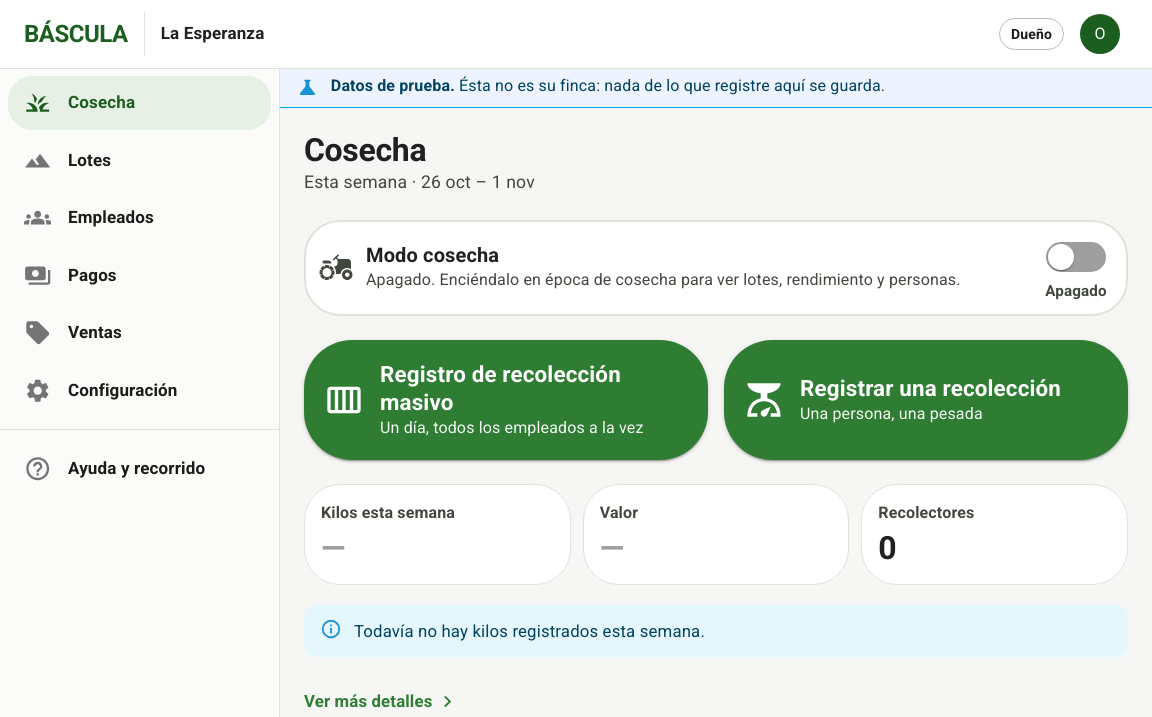
Test: «Modo cosecha» on the home screen › turned on, shows the harvest week: lotes, people and who has nothing today
Click the switch labelled "Modo cosecha" at {"x": 716, "y": 268}, box 304,220 -> 1128,316
(page scrolled)
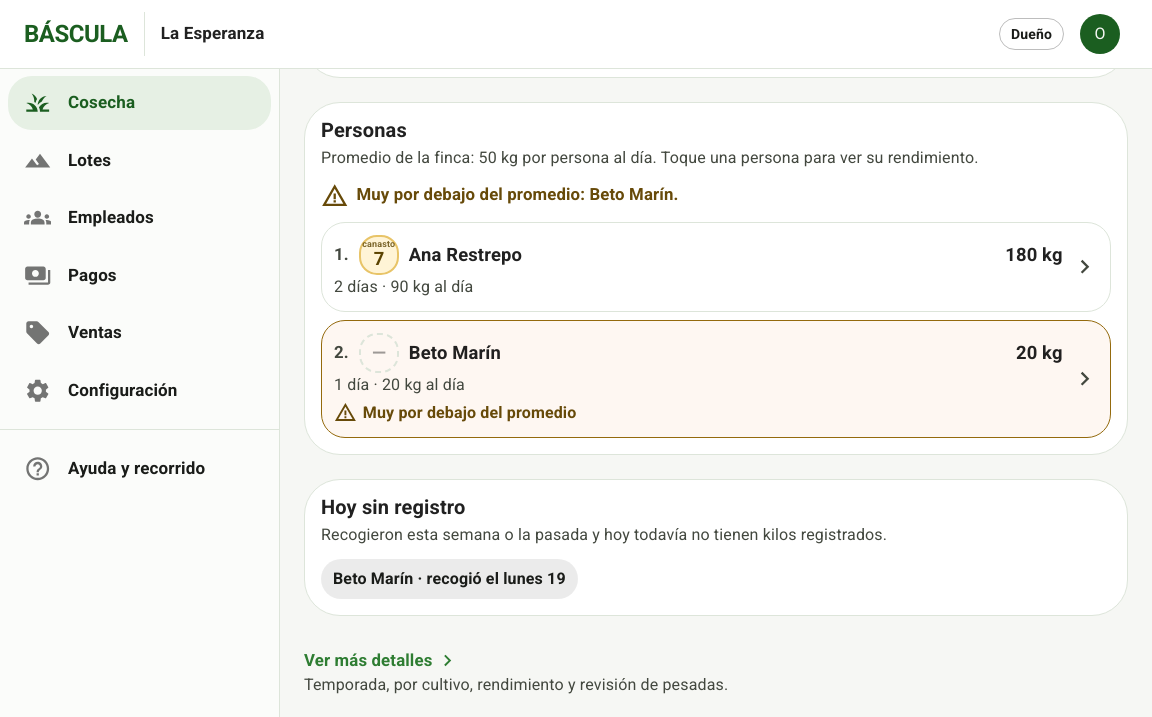
Result: the text "Muy por debajo del promedio" is shown at 363,401 -> 576,425
Result: the text "Muy por debajo del promedio: Beto Marín." is shown at 356,182 -> 679,207
Result: the heading "Hoy sin registro" is shown at 321,495 -> 466,519
